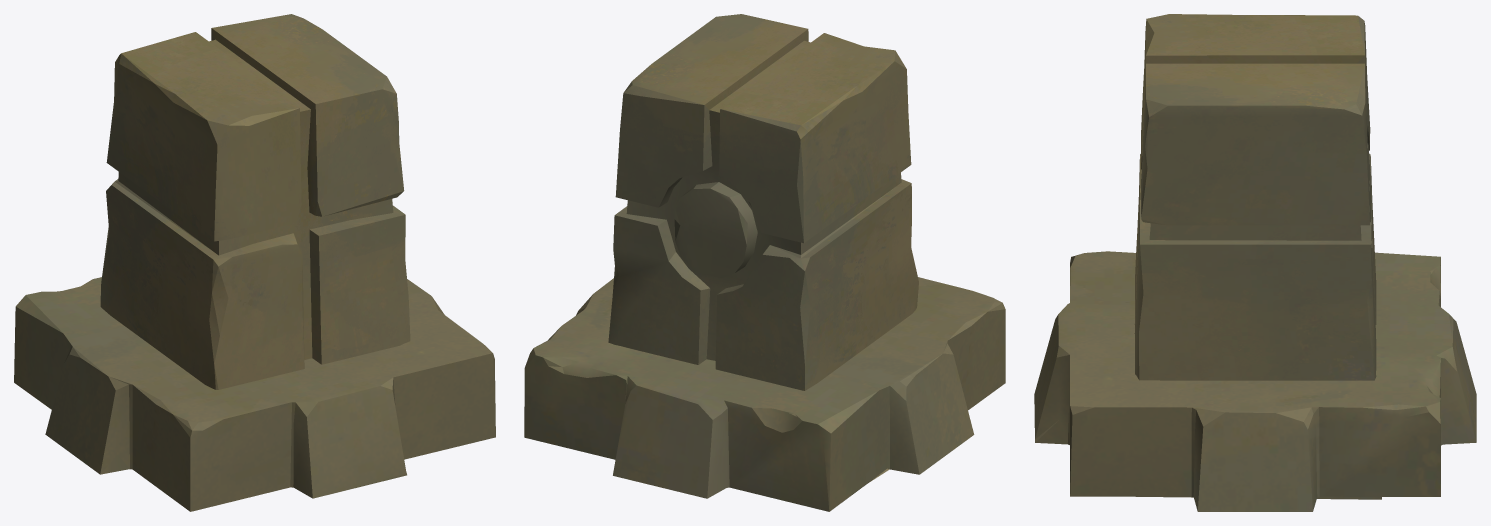
The model's file is CubeBox.fbx.
3 views of the same model, side by side, from view 1: azimuth 30°, elevation 25°; view 2: azimuth 150°, elevation 25°; view 3: azimuth 270°, elevation 25° (orthographic). The views are drawn at different scales.
Parts seen in each view (by area): view 1: Console_KEY, Console_KEY (1); view 2: Console_KEY, Console_KEY (1); view 3: Console_KEY, Console_KEY (1).
Boxes of the visible parts, x1,y1,x2,y2 form: Console_KEY: (100,14,410,389); Console_KEY (1): (14,277,495,511); Console_KEY: (608,14,918,390); Console_KEY (1): (524,277,1005,511); Console_KEY: (1134,14,1381,499); Console_KEY (1): (1034,251,1476,511).
Bounding box in the file's own units: 2.33 × 2.25 × 2.33.
